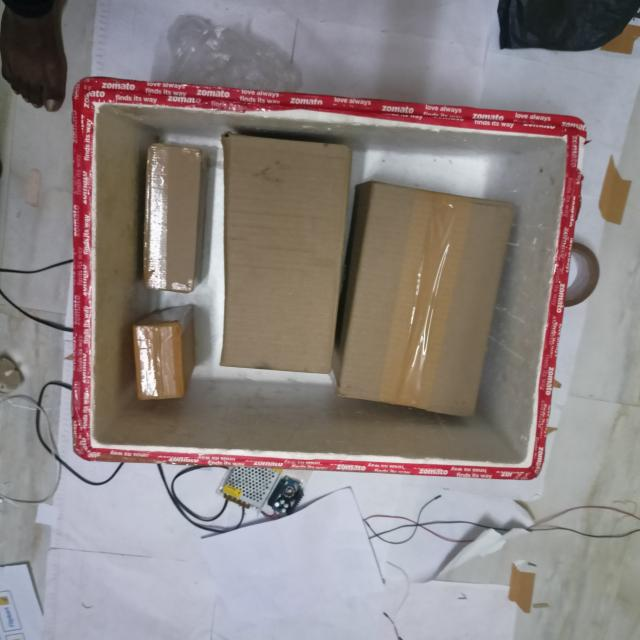box: (345, 182, 519, 415), (226, 138, 346, 364), (146, 145, 191, 285), (133, 328, 184, 402)
